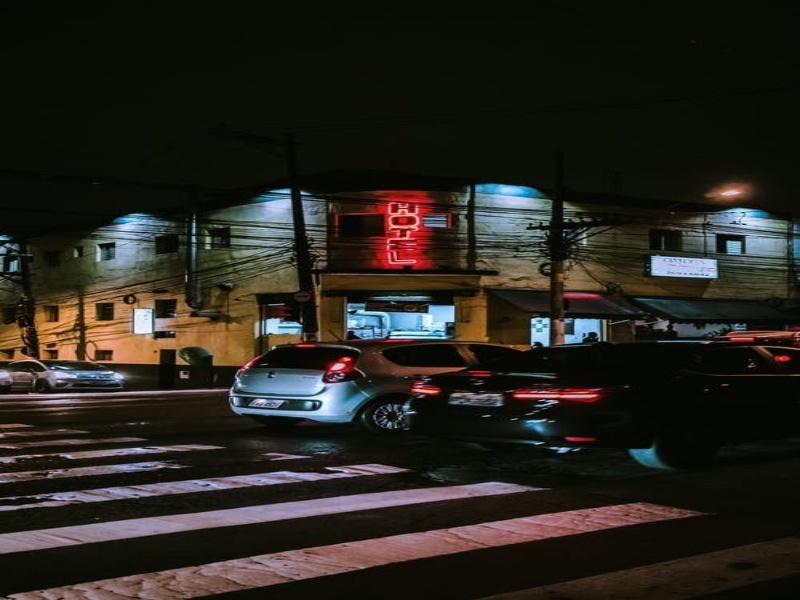zebra cross: (1, 419, 798, 596)
